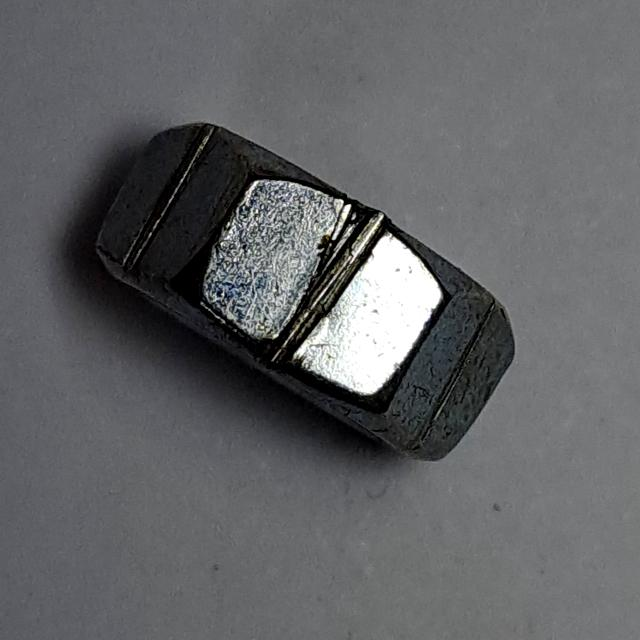Side_Scratches: (87, 111, 538, 475)
